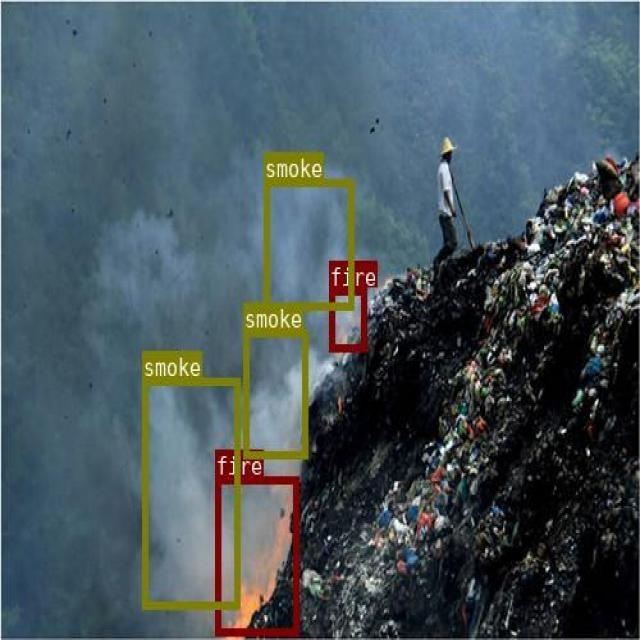fire: (215, 476, 298, 634), (329, 287, 365, 351)
smoke: (142, 376, 238, 607), (264, 178, 352, 307), (243, 328, 306, 457)
